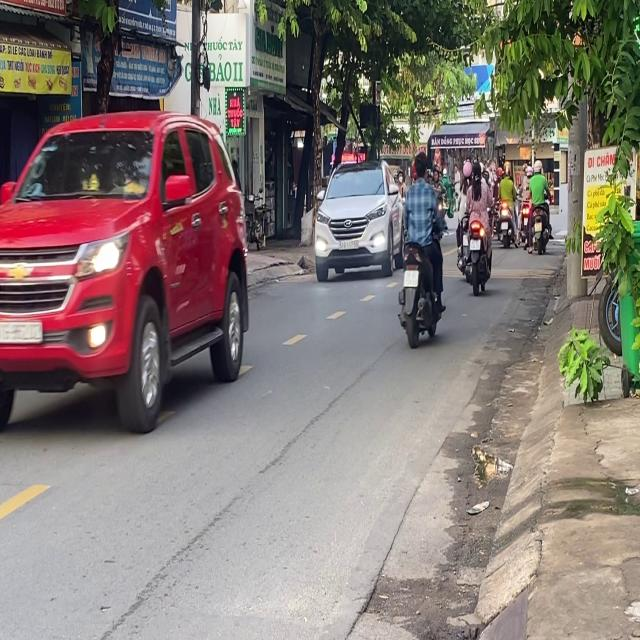licenseplate: (396, 147, 446, 346)
motorcyclist: (411, 149, 428, 179)
nohelmet: (404, 271, 418, 287)
